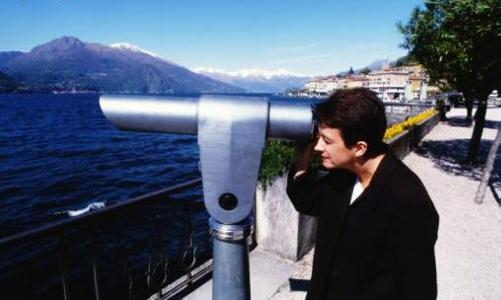person: (287, 86, 438, 297)
